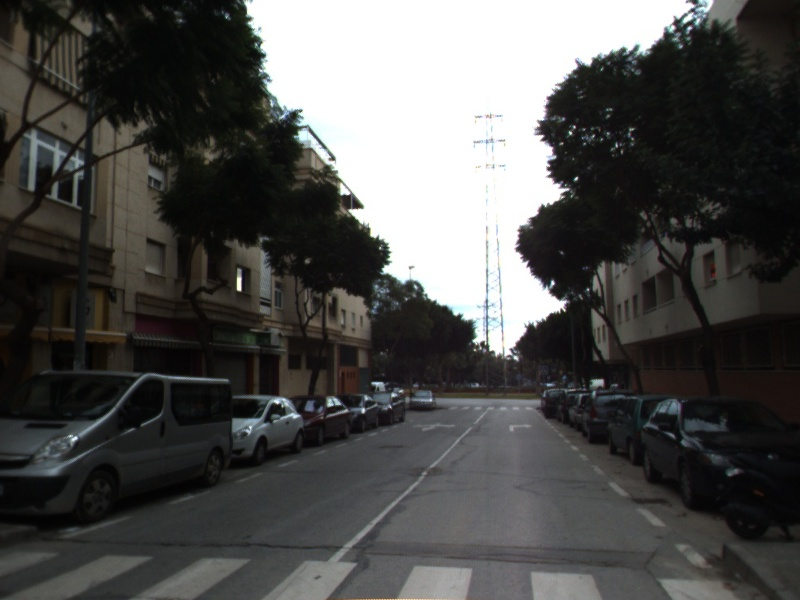RIGHT: (507, 421, 534, 433)
